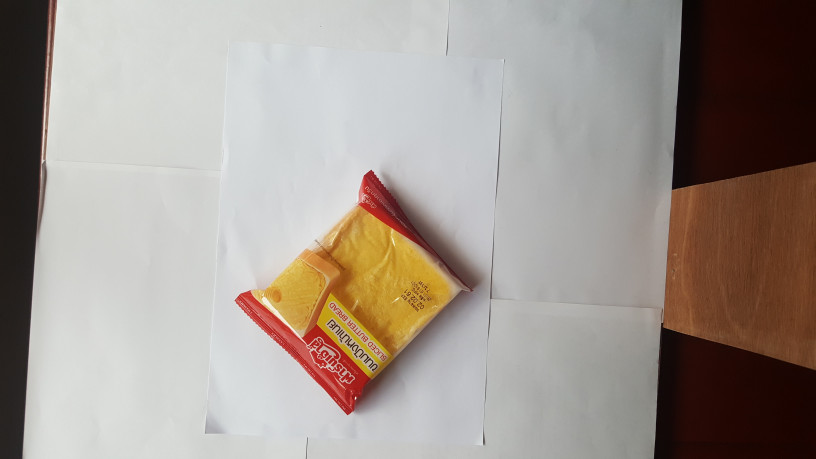farmhouse-bread-butter: (222, 163, 475, 420)
